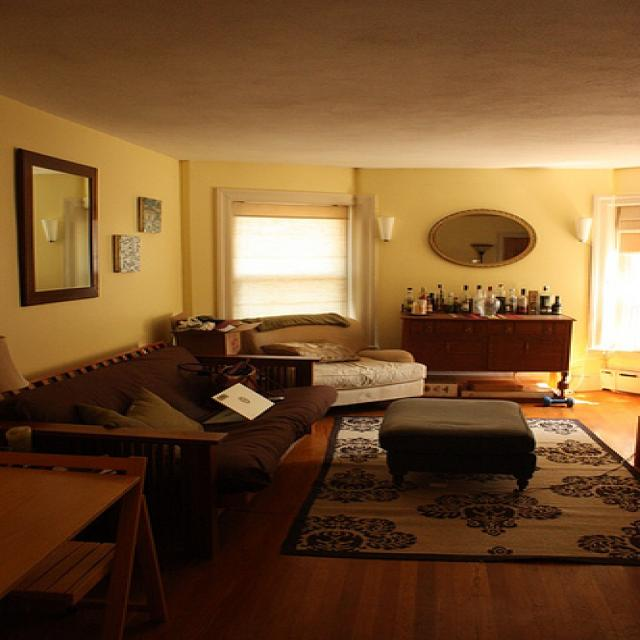chair: (4, 451, 164, 638)
dining table: (0, 466, 141, 596)
